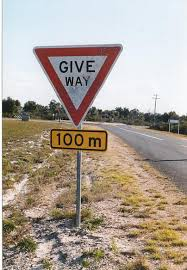giveway: (30, 41, 124, 129), (28, 42, 130, 73), (44, 75, 79, 126), (79, 67, 106, 122)
